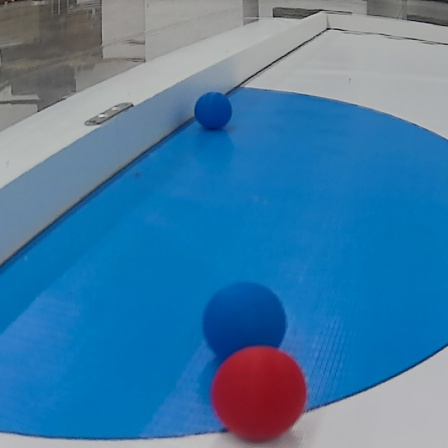blue: (197, 279, 290, 355), (191, 90, 234, 133)
blue_base: (4, 85, 448, 433)
red: (214, 342, 309, 439)
